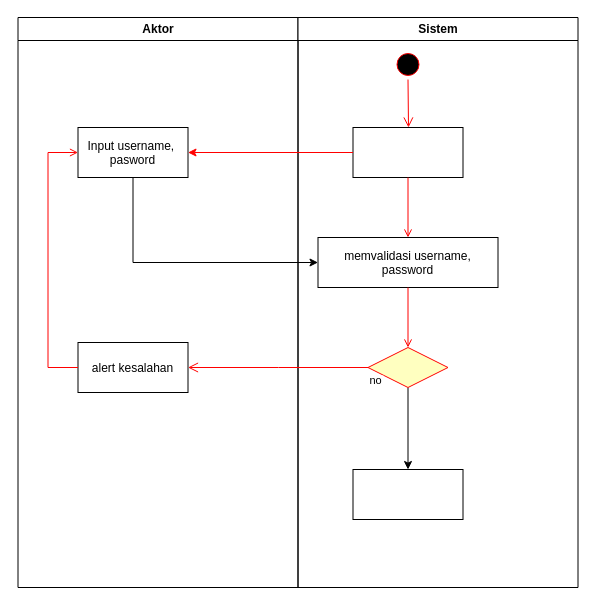
Some shapes in this 595 by 605 pixel diagram are drawn without their labels. Here are the shapes that lost their labels. From the top down, the centre of each, then its label:
At point (407, 152): "Menampilkan form login".
At point (407, 367): "queue empty".
At point (407, 494): "command queue".
